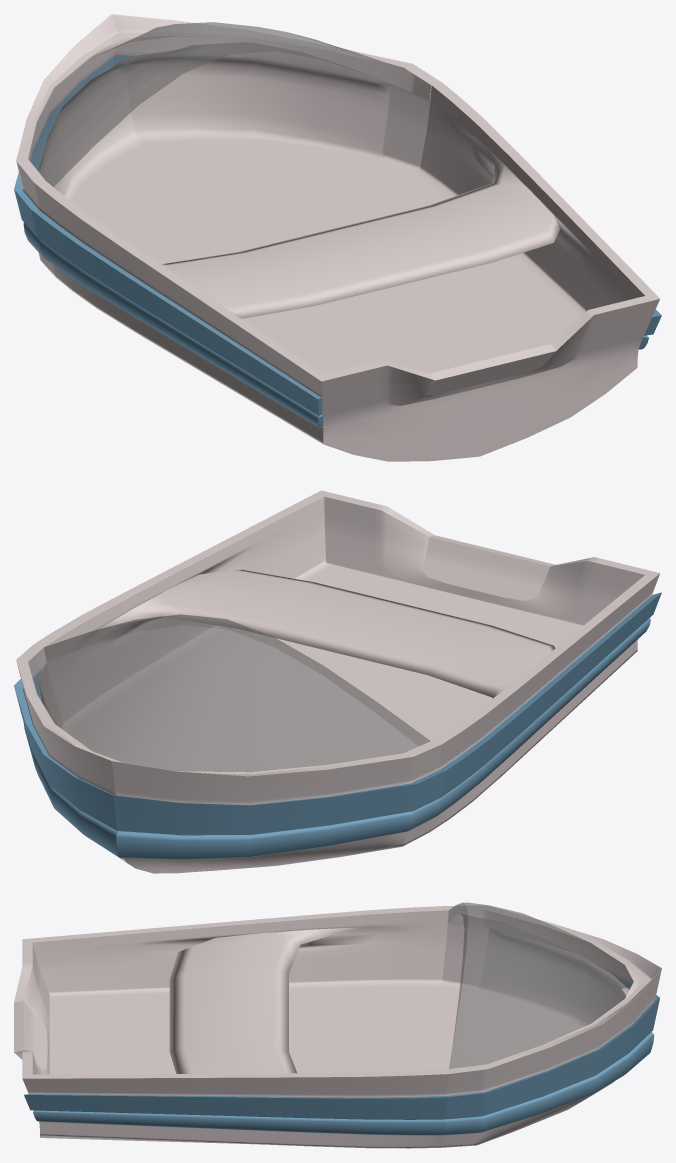
File: bote.fbx
3 views of the same model, one above another, from view 1: azimuth 30°, elevation 25°; view 2: azimuth 150°, elevation 25°; view 3: azimuth 270°, elevation 25° (orthographic). The views are drawn at different scales.
Parts seen in each view (by area): view 1: Bote; view 2: Bote; view 3: Bote.
Boxes of the visible parts, bbox=[...] form: Bote: bbox=[14, 14, 661, 461]; Bote: bbox=[14, 490, 661, 873]; Bote: bbox=[14, 902, 661, 1148].
Bounding box in the file's own units: 456 × 253 × 730.
